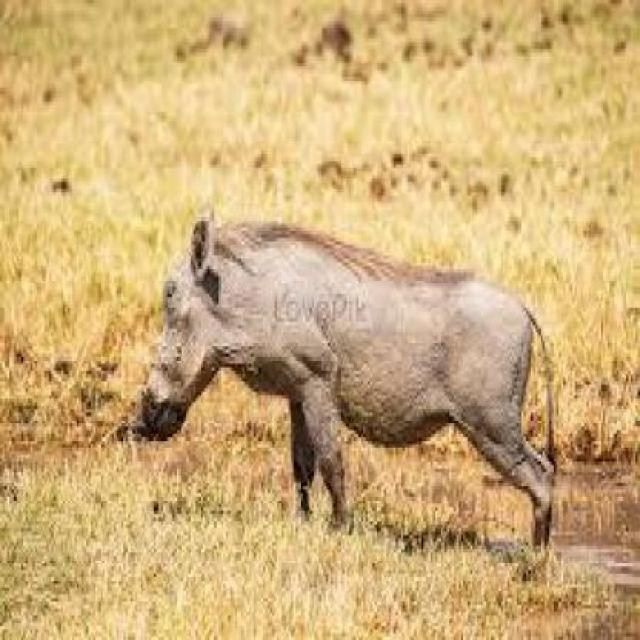wildboar: (130, 201, 568, 577)
